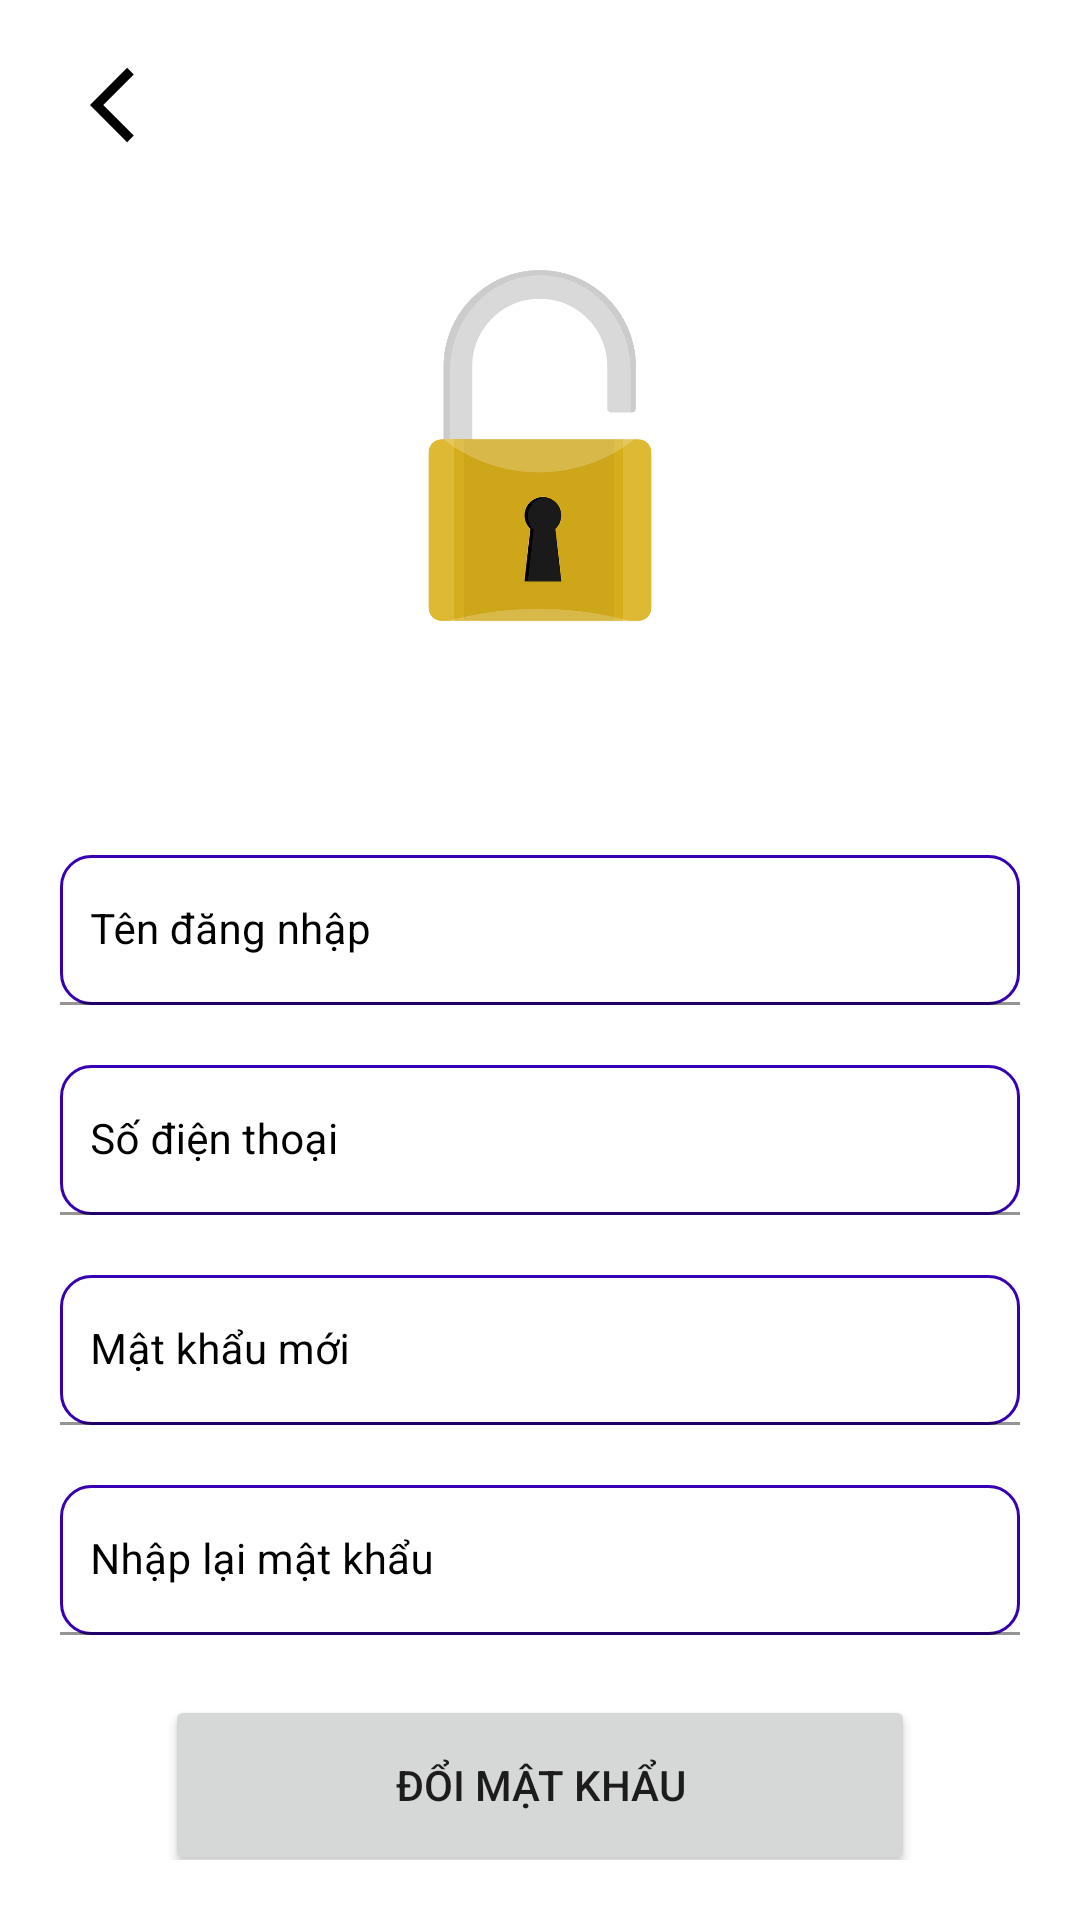

Icons on this 1080w x 1920h Android screen, each with its box as (x1, y1, x2, y2):
back: (90, 68, 134, 142)
changepass: (428, 270, 652, 621)
